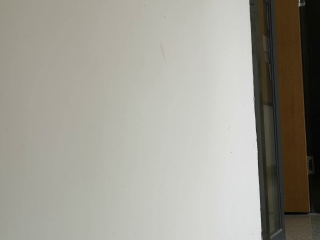room: (246, 3, 319, 236)
